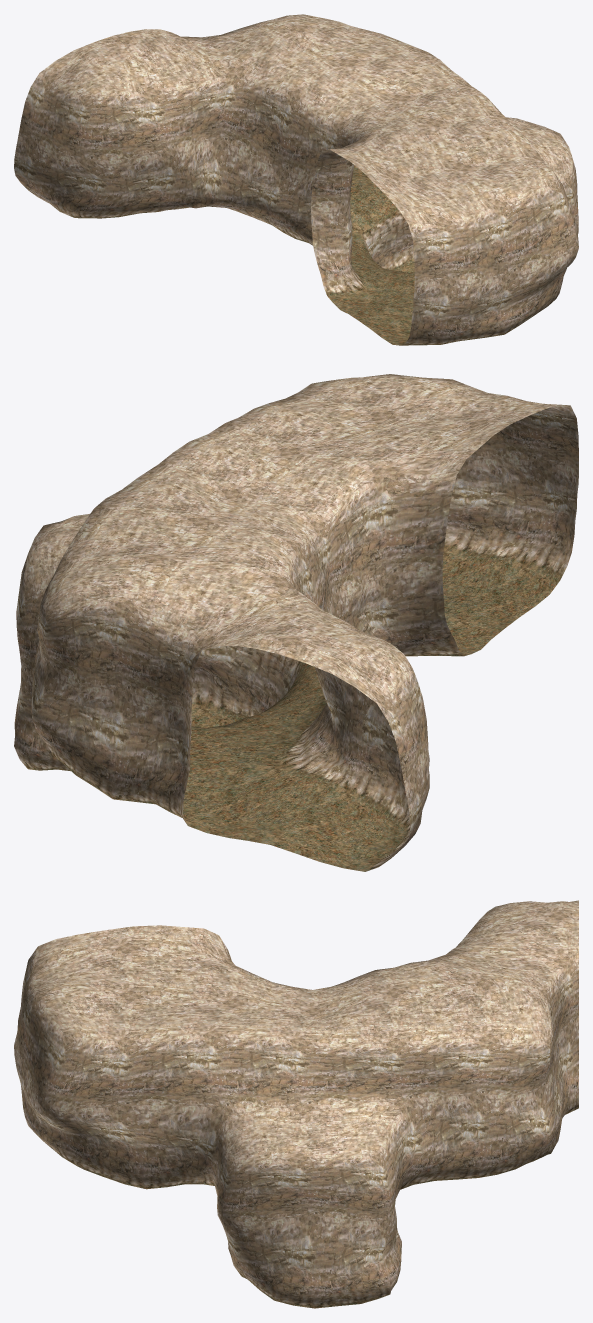
File: thm_all_cave_flatland_s01_r4_mesh_r4.fbx
3 renders of one model, top to bottom at view 1: azimuth 30°, elevation 25°; view 2: azimuth 150°, elevation 25°; view 3: azimuth 270°, elevation 25°, orthographic. The views are drawn at different scales.
Visible parts, largest first — view 1: mesh_node; view 2: mesh_node; view 3: mesh_node.
Part boxes in pixels (x1,y1,x2,y2): mesh_node: [14, 14, 578, 345]; mesh_node: [14, 374, 578, 871]; mesh_node: [14, 900, 578, 1308].
Bounding box in the file's own units: 59.37 × 33.41 × 66.82.
